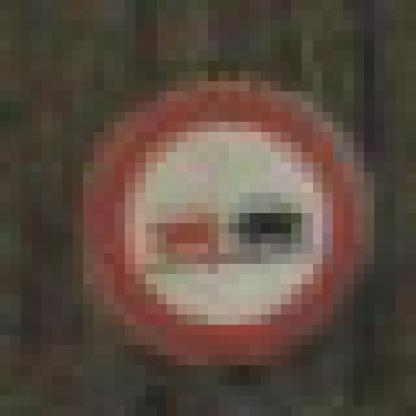No Overtaking: (64, 62, 355, 356)
